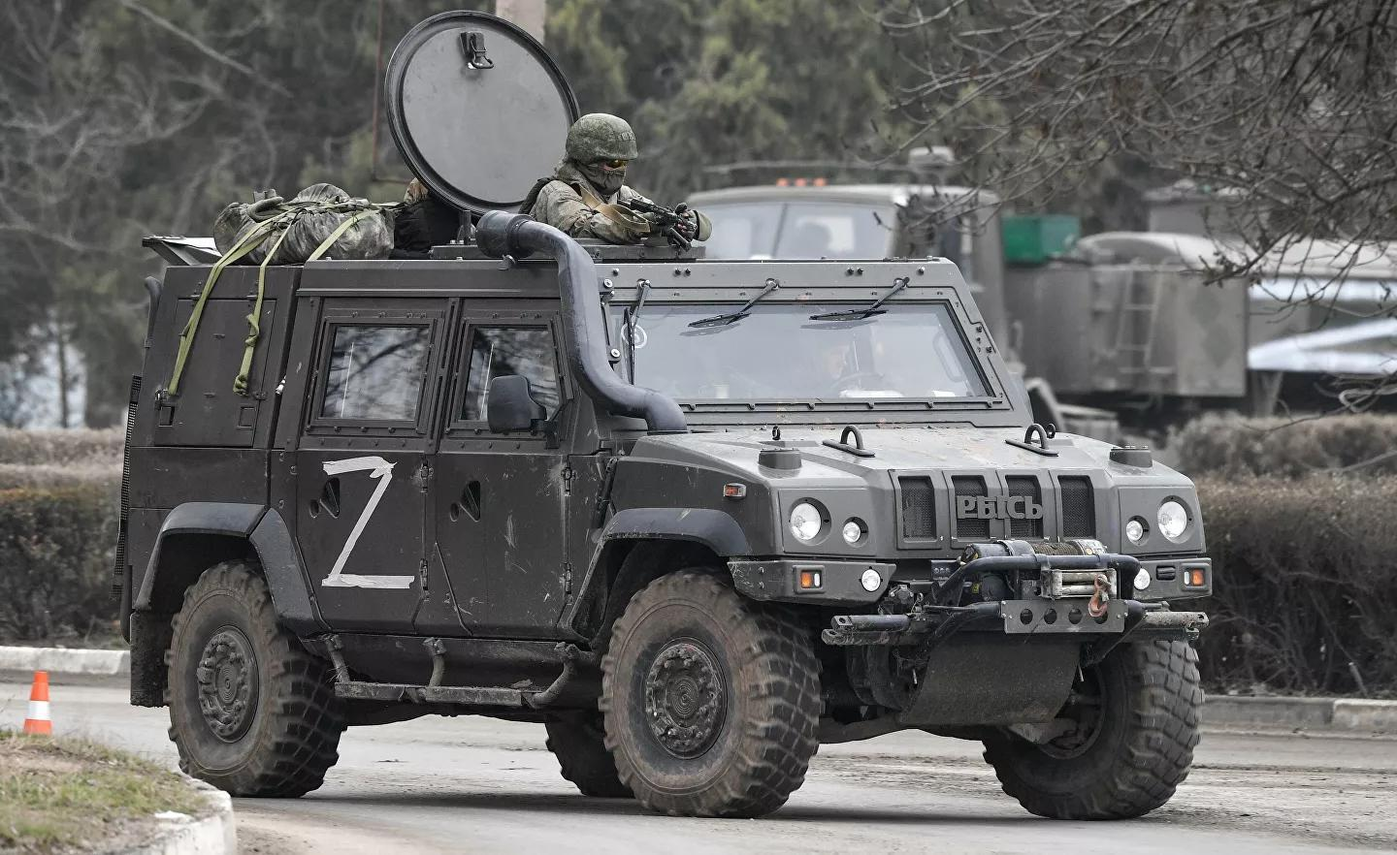armored_car: (117, 190, 1216, 809)
person: (511, 118, 719, 246)
